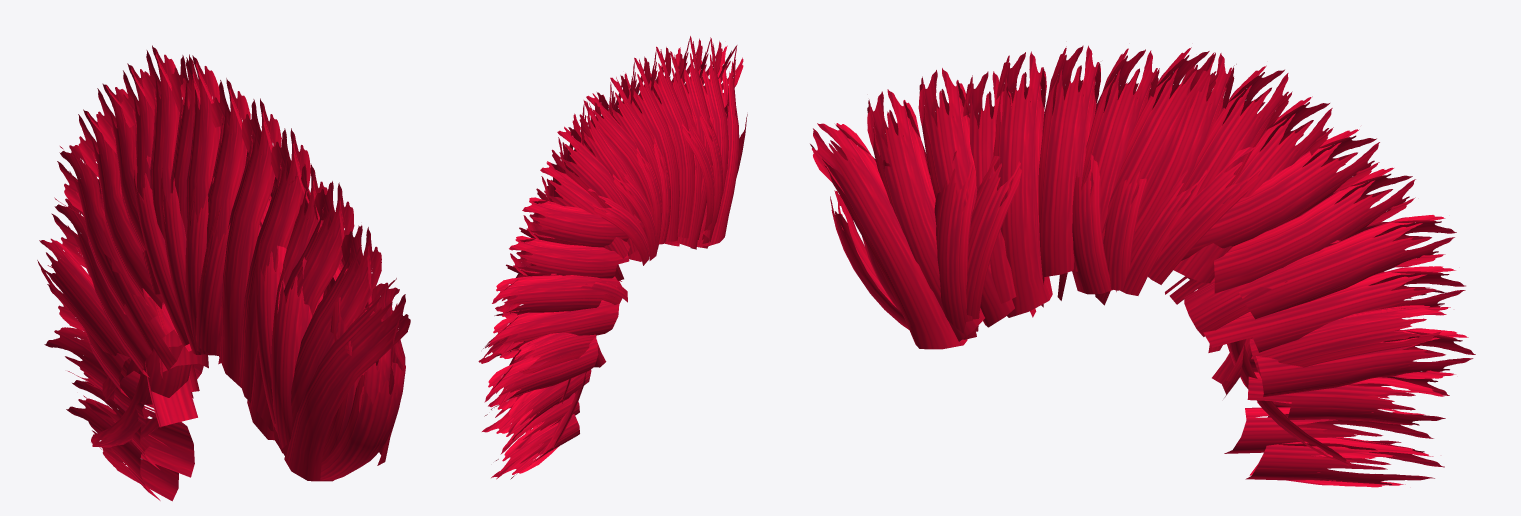
The model's file is Mohawk.glb.
3 renders of one model, left to right at view 1: azimuth 30°, elevation 25°; view 2: azimuth 150°, elevation 25°; view 3: azimuth 270°, elevation 25°, orthographic. The views are drawn at different scales.
Parts seen in each view (by area): view 1: Mohawk; view 2: Mohawk; view 3: Mohawk.
Part boxes in pixels (box(x1,y1,x2,y2)): Mohawk: box(37, 45, 410, 501); Mohawk: box(478, 36, 747, 479); Mohawk: box(810, 45, 1475, 487).
Bounding box in the file's own units: 0.2356 × 1.09 × 1.51.
1 material, 1 textured.
